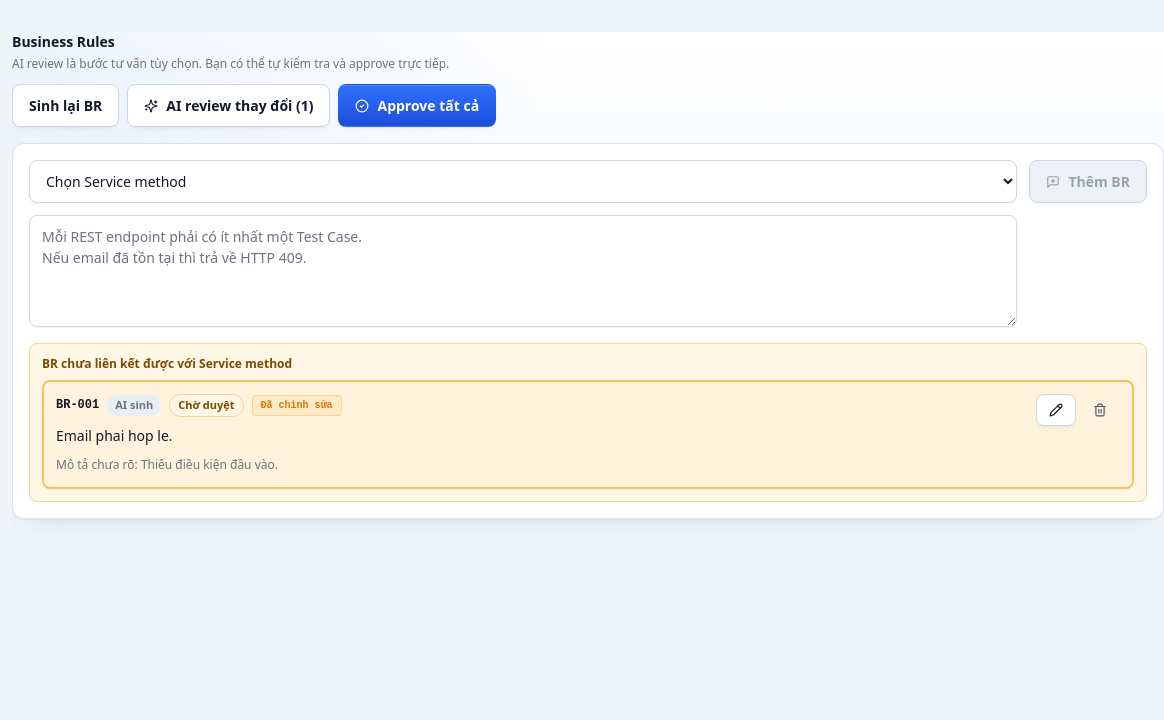
Scenario: BusinessRulesPanel › localizes a review verdict and shows fresh feedback only once
Expected: the text "Mô tả chưa rõ: Thiếu điều kiện đầu vào." is shown, [56,456,278,473]
What coordinates should you click on to do the following:
click the button "AI review thay đổi (1)"
I would click on:
 (229, 106)
Its box is [127,84,330,127].
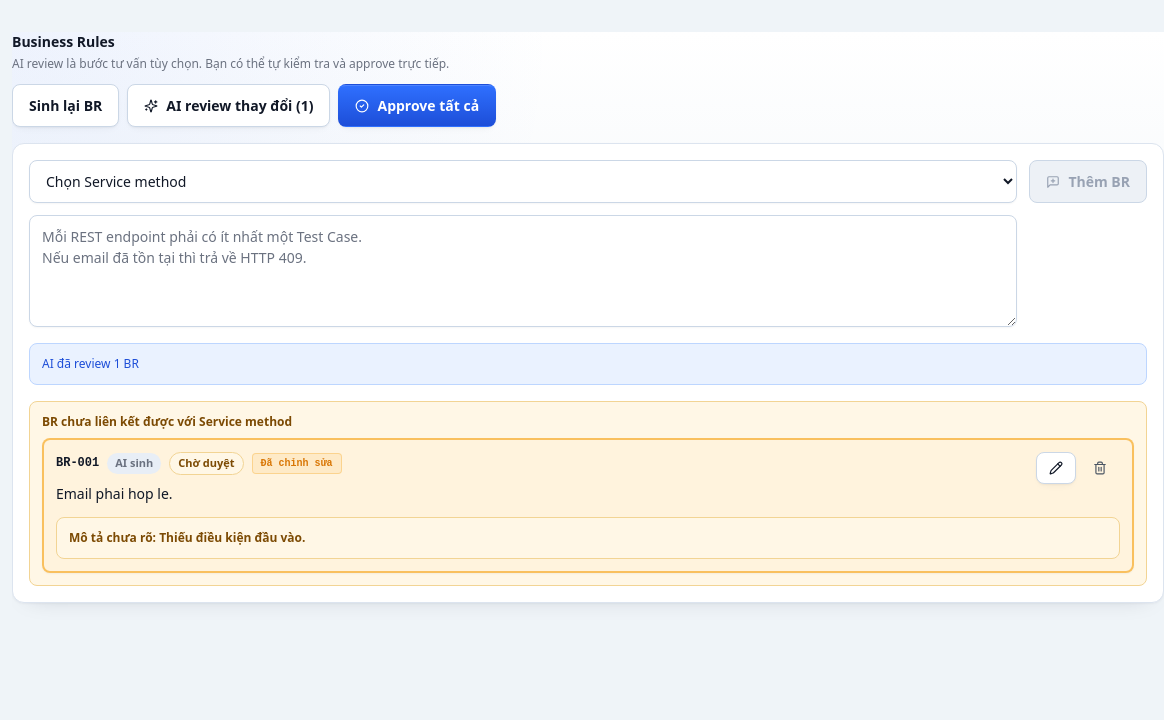
Expected: the button "Approve tất cả" is enabled, [338,84,496,127]
Result: the text "Mô tả chưa rõ: Thiếu điều kiện đầu vào." is shown once at [69,529,306,546]
